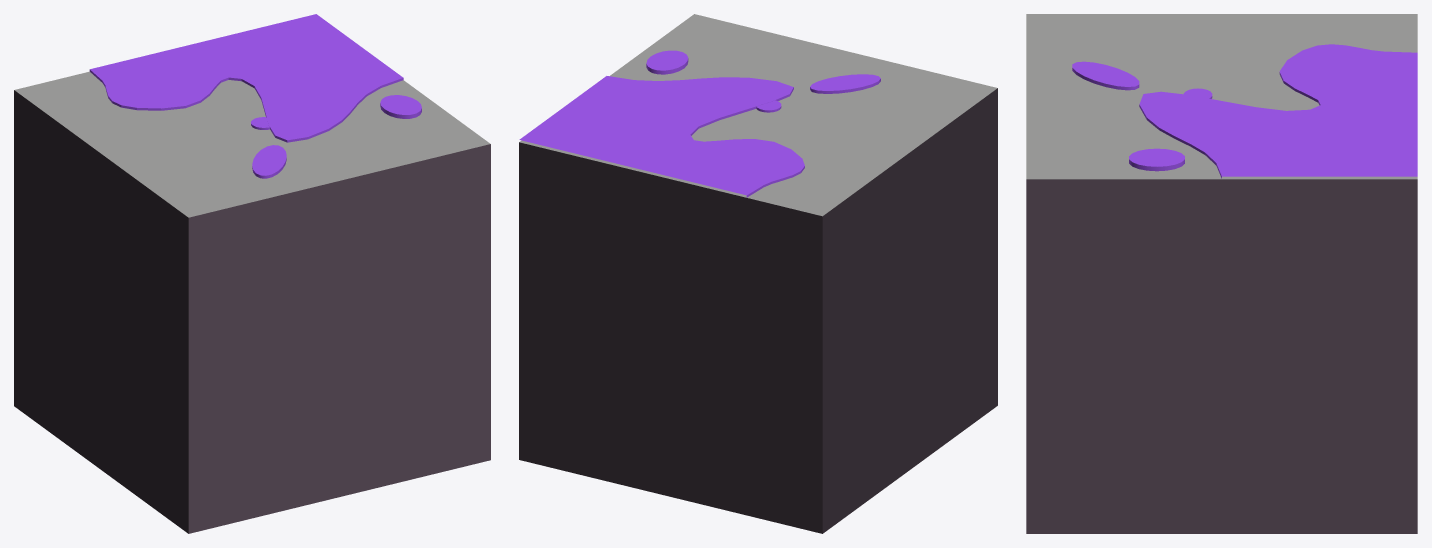
Rendered from tile_obstacle_toxic07.FBX.
The picture shows the model from 3 angles, left to right: view 1: azimuth 30°, elevation 25°; view 2: azimuth 150°, elevation 25°; view 3: azimuth 270°, elevation 25°; orthographic projection. The views are drawn at different scales.
Visible parts, largest first — view 1: tile_obstacle_toxic07; view 2: tile_obstacle_toxic07; view 3: tile_obstacle_toxic07.
Part boxes in pixels (bbox=[...]): tile_obstacle_toxic07: bbox=[14, 14, 490, 533]; tile_obstacle_toxic07: bbox=[519, 14, 997, 533]; tile_obstacle_toxic07: bbox=[1026, 14, 1417, 533].
Bounding box in the file's own units: 39.37 × 39.86 × 39.37.
